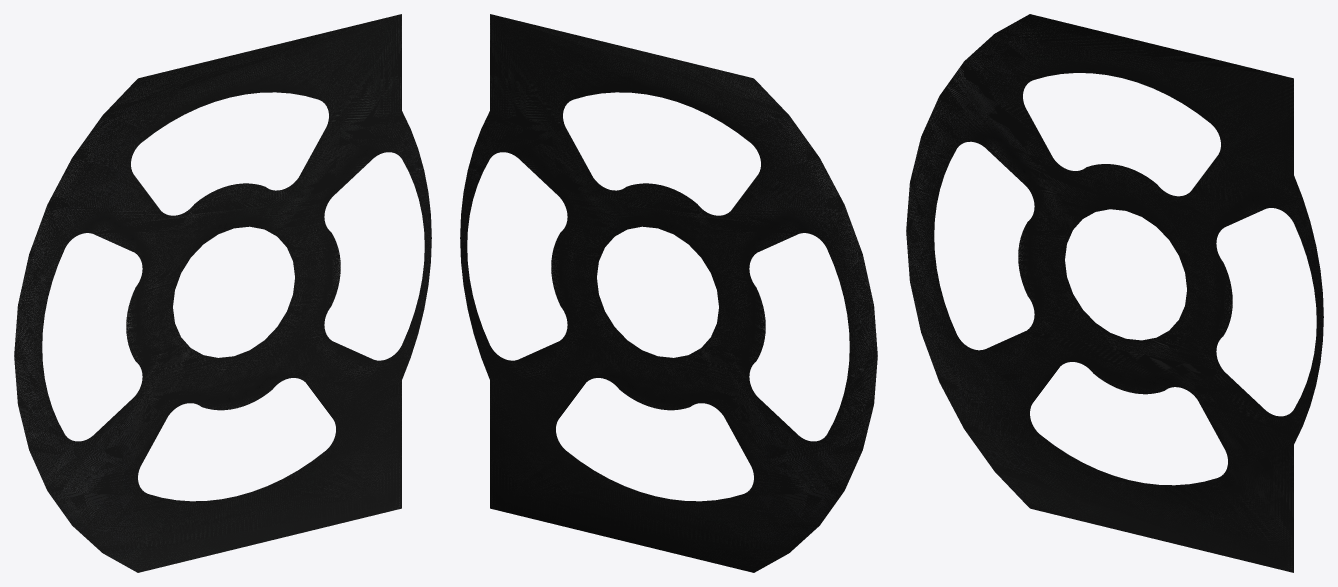
File: original-354.obj
The picture shows the model from 3 angles, left to right: view 1: azimuth 30°, elevation 25°; view 2: azimuth 150°, elevation 25°; view 3: azimuth 330°, elevation 25°; orthographic projection.
Parts seen in each view (by area): view 1: #ID2485; view 2: #ID2485; view 3: #ID2485.
Part boxes in pixels (<box>): #ID2485: <box>14,14,431,572</box>; #ID2485: <box>460,14,877,572</box>; #ID2485: <box>906,14,1323,572</box>.
Bounding box in the file's own units: 0.1609 × 0.182 × 0.
2 materials, 1 textured.
